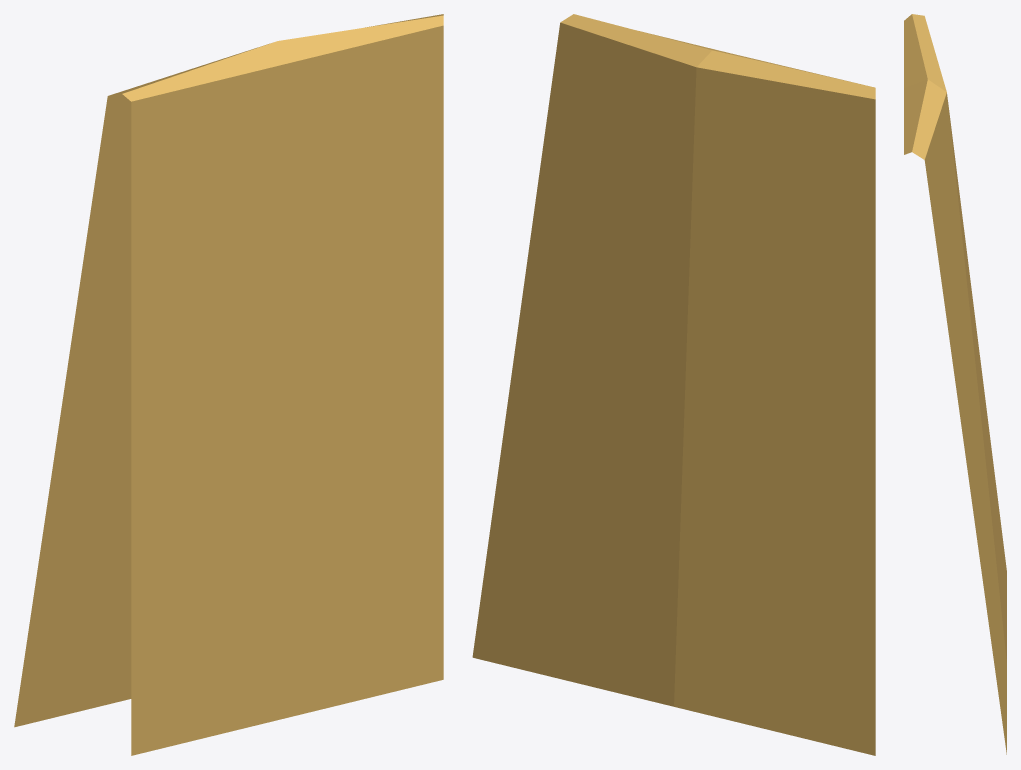
The model's file is edge_gapfill.glb.
3 renders of one model, left to right at view 1: azimuth 30°, elevation 25°; view 2: azimuth 150°, elevation 25°; view 3: azimuth 270°, elevation 25°, orthographic. The views are drawn at different scales.
Parts seen in each view (by area): view 1: Ocean_gap_fill; view 2: Ocean_gap_fill; view 3: Ocean_gap_fill.
Boxes of the visible parts, x1=… form: Ocean_gap_fill: x1=14, y1=14, x2=443, y2=755; Ocean_gap_fill: x1=472, y1=14, x2=875, y2=755; Ocean_gap_fill: x1=904, y1=14, x2=1006, y2=754.
Size of the model in its own units: 1.37 by 2.04 by 0.3242.
